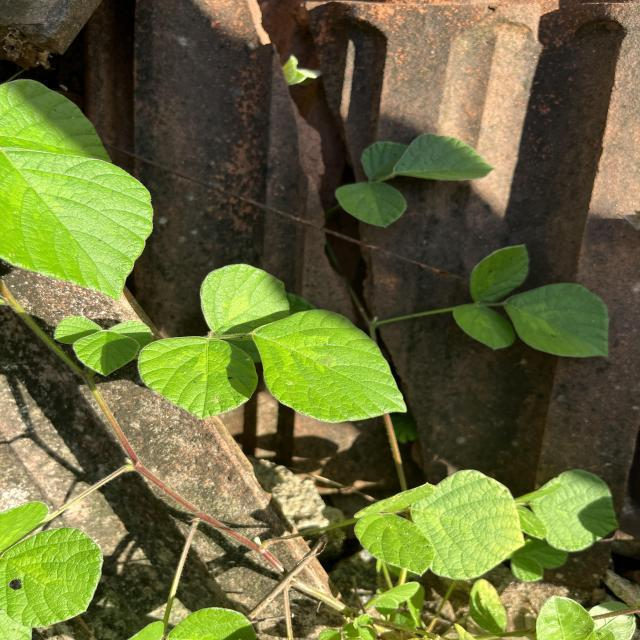Pseudarthria viscida: (134, 260, 412, 426), (352, 466, 527, 582), (449, 240, 613, 360), (333, 132, 496, 230)
